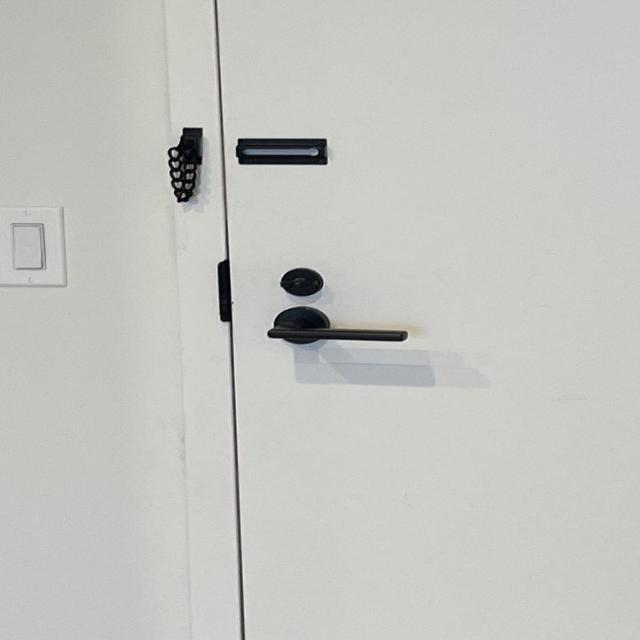door_handle: (242, 312, 419, 361)
